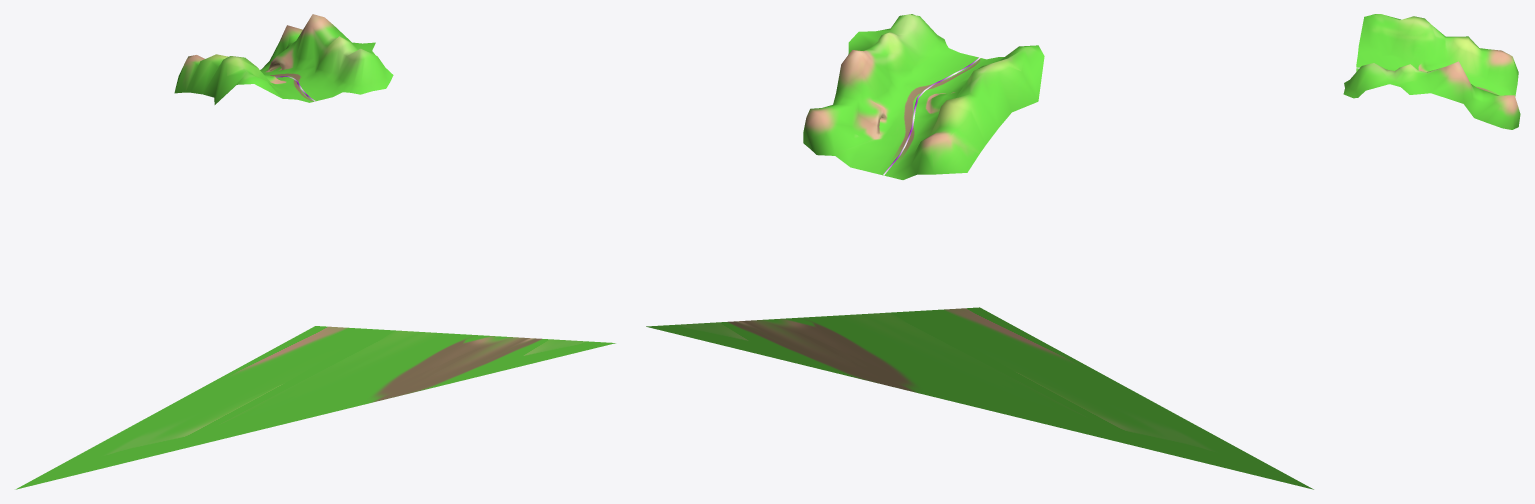
The model's file is L_CaveStart.fbx.
3 views of the same model, side by side, from view 1: azimuth 30°, elevation 25°; view 2: azimuth 150°, elevation 25°; view 3: azimuth 270°, elevation 25° (orthographic). The views are drawn at different scales.
Parts seen in each view (by area): view 1: Obj, LocCaveStart; view 2: Obj, LocCaveStart; view 3: LocCaveStart.
Boxes of the visible parts, x1,y1,x2,y2 form: Obj: [15, 326, 615, 489]; LocCaveStart: [174, 14, 393, 104]; Obj: [646, 307, 1313, 489]; LocCaveStart: [803, 14, 1044, 179]; LocCaveStart: [1343, 14, 1520, 129].
Bounding box in the file's own units: 200 × 111 × 55.76.
